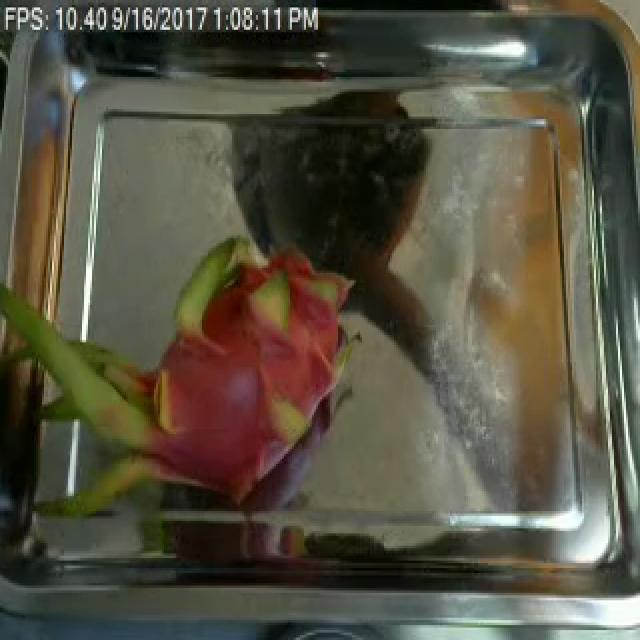fruit: (26, 214, 372, 518)
